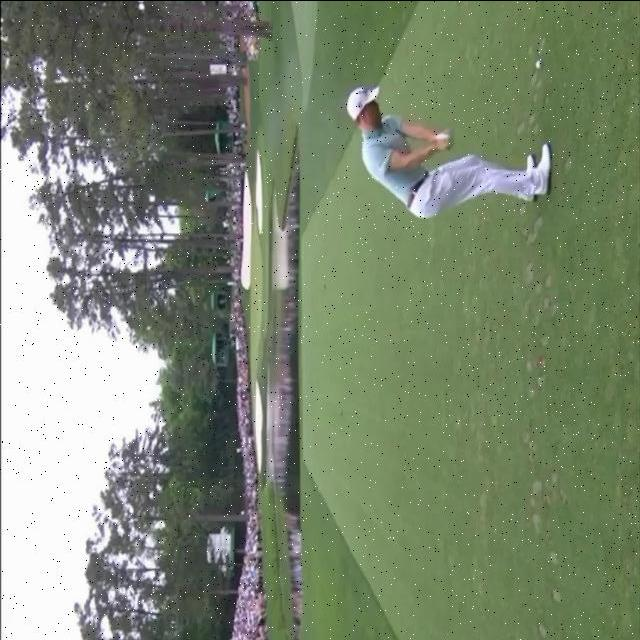GolfBall: (536, 59, 542, 68)
